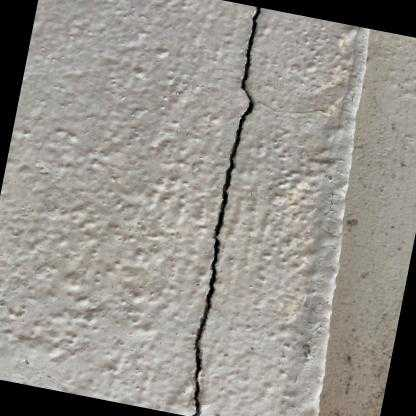crack: (191, 6, 260, 416)
